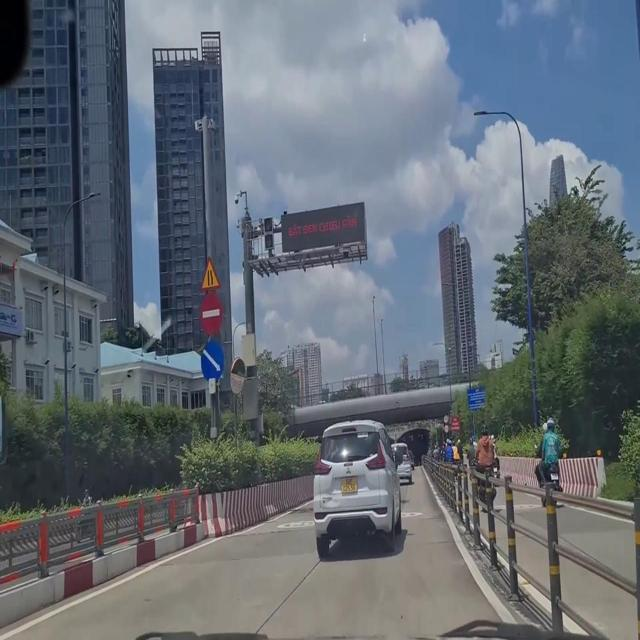Cấm đi ngược chiều: (195, 288, 227, 334)
Hướng phải đi vòng sang phải: (194, 337, 228, 380)
Khác: (465, 381, 493, 414)
Đường hẹp: (193, 256, 220, 292)
